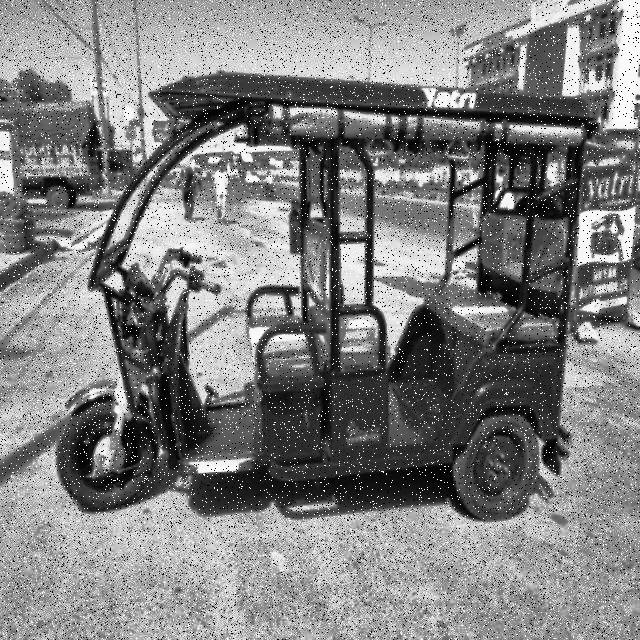Toto: (57, 74, 586, 540)
